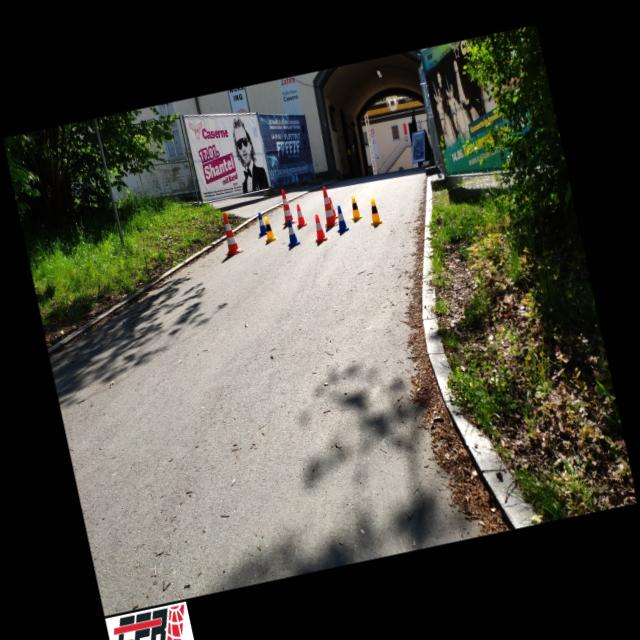blue_cone: (281, 217, 301, 247), (332, 204, 349, 232), (253, 212, 267, 236)
large_orange_cone: (216, 210, 244, 256), (317, 185, 338, 227), (275, 188, 297, 225)
orange_cone: (310, 213, 328, 243), (292, 203, 306, 227), (328, 193, 338, 219)
yellow_cone: (260, 214, 277, 242), (366, 197, 382, 225), (347, 196, 362, 220)
